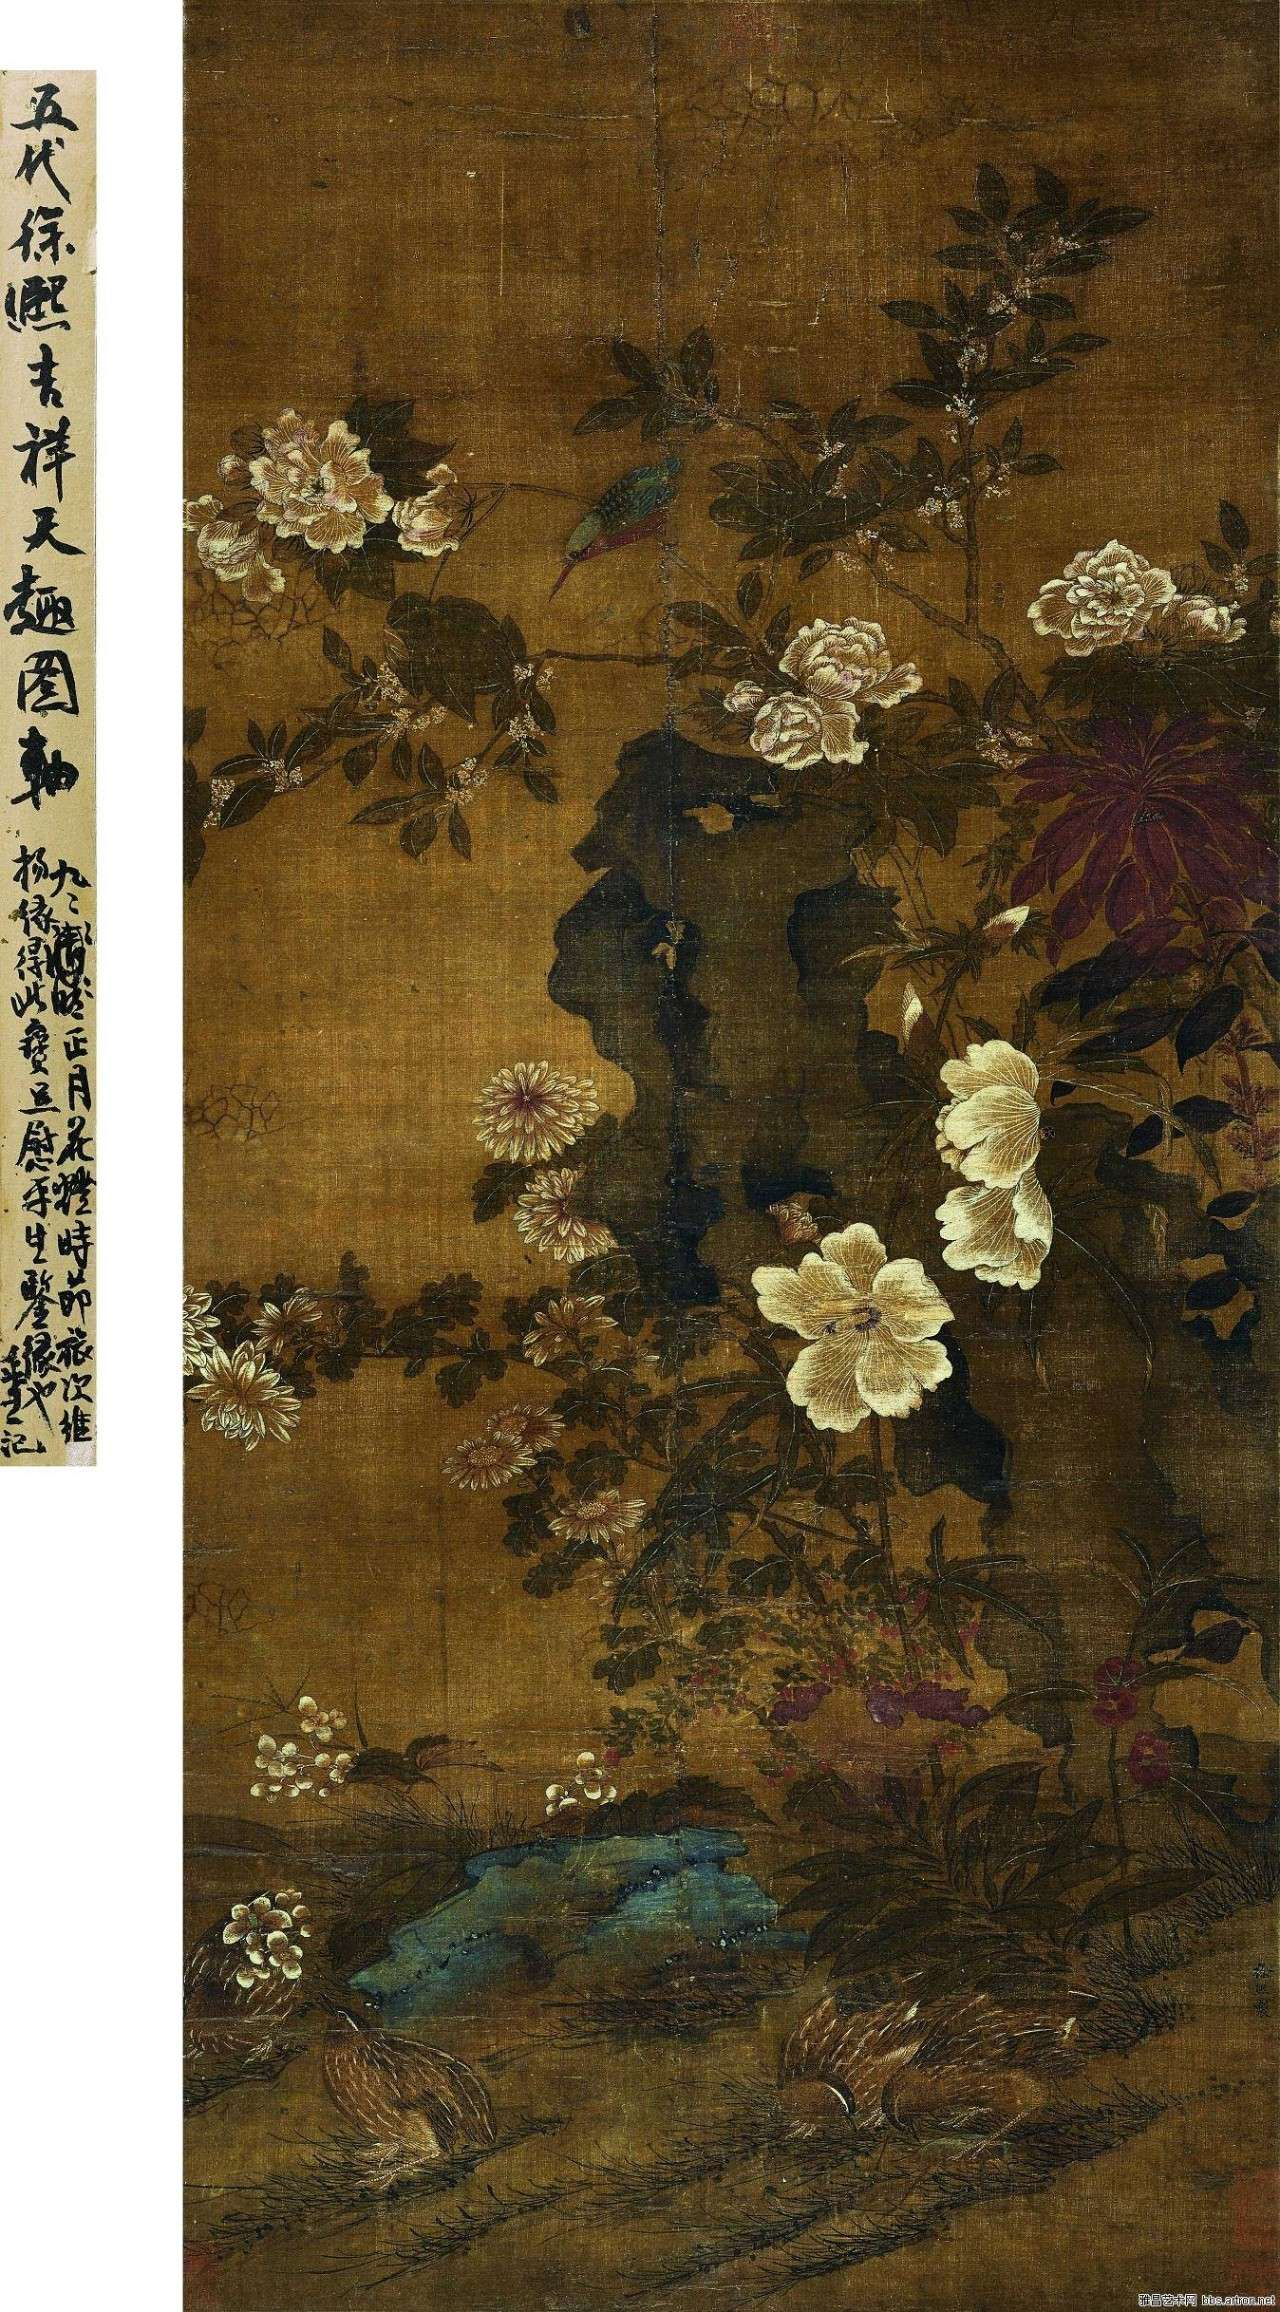bird: (750, 1987, 1061, 2151), (300, 2028, 504, 2191)
flower: (211, 1680, 705, 1853), (482, 1292, 635, 1596), (742, 1239, 971, 1433), (474, 1067, 620, 1277), (936, 1053, 1059, 1294), (224, 1893, 312, 2006)
hill: (593, 734, 914, 1239)
peony: (184, 411, 476, 624), (1031, 534, 1256, 682), (717, 616, 924, 774)
